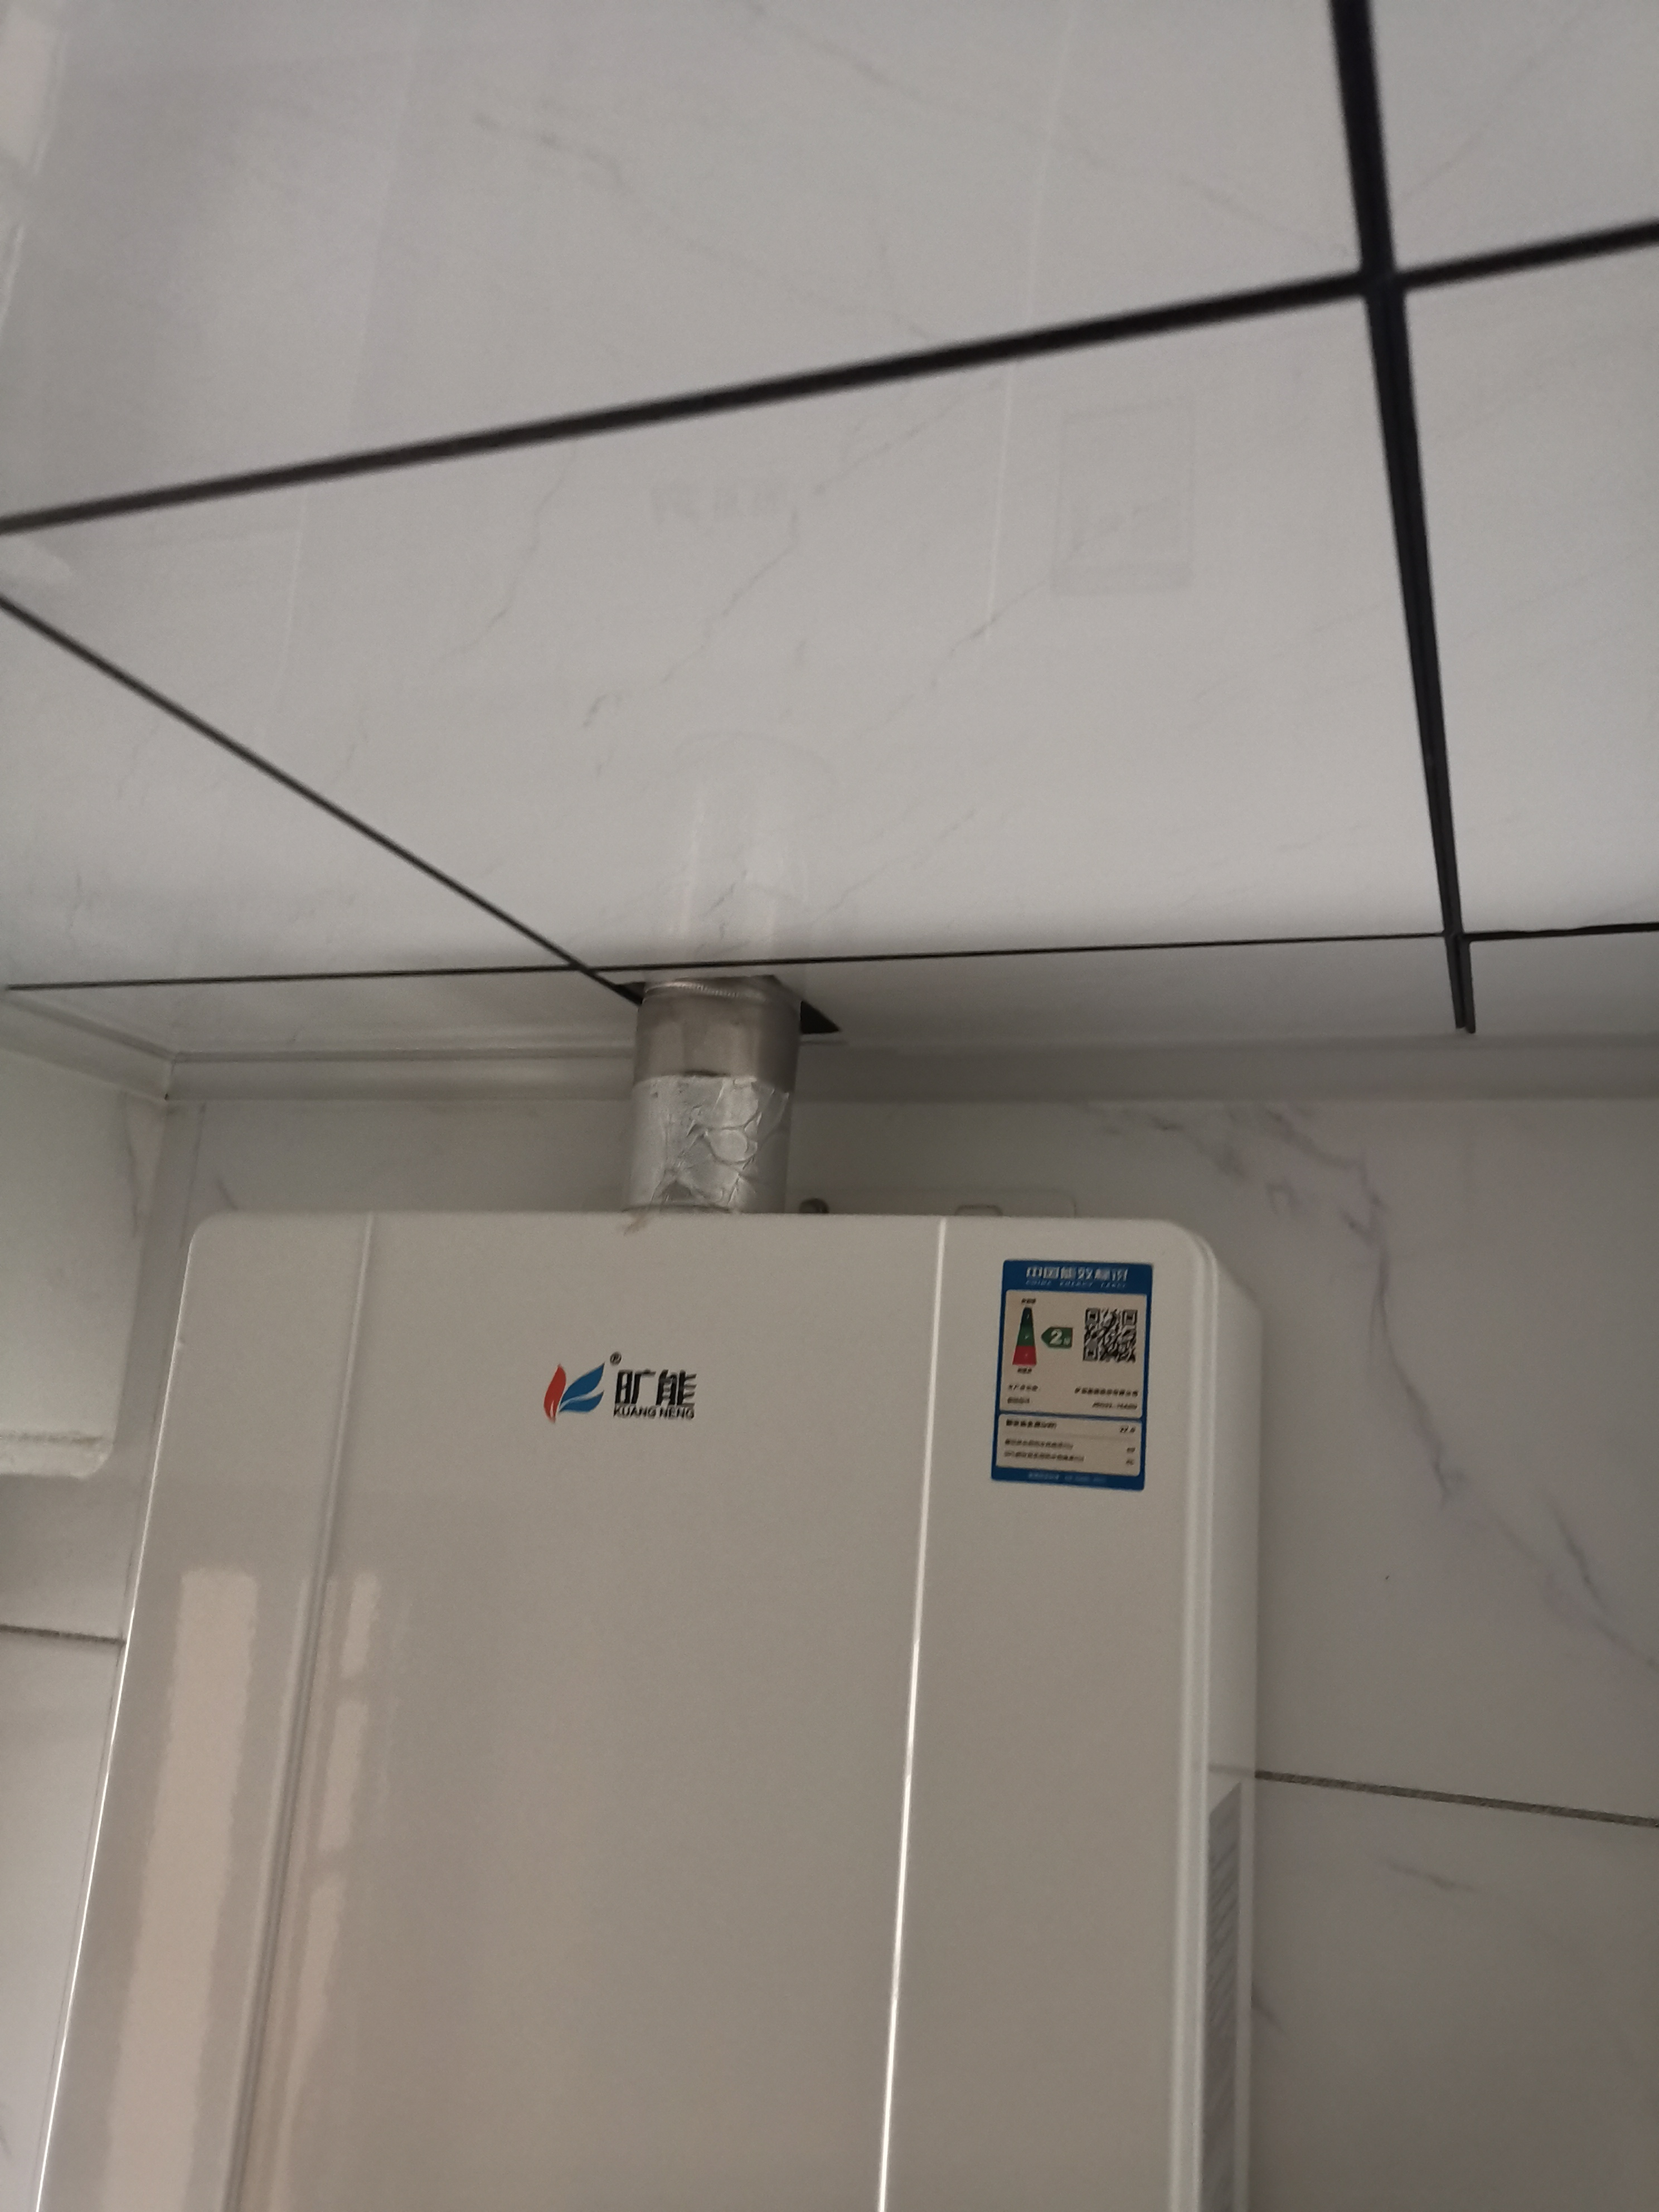loudou: (530, 1339, 708, 1435)
